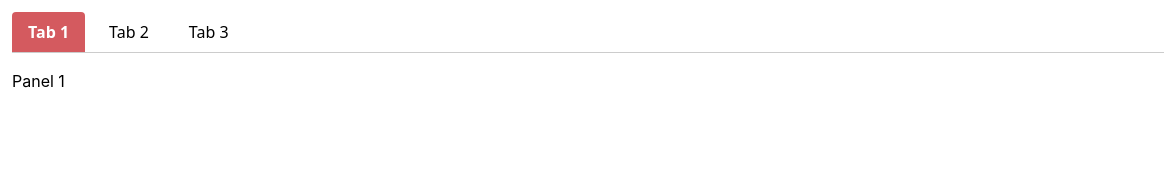
Scenario: Tabs 组件 › 应该在多次点击时正确切换
The image size is (1164, 172).
Click the tab "Tab 2" at (129, 32), box top-left (93, 12), bottom-right (165, 52)
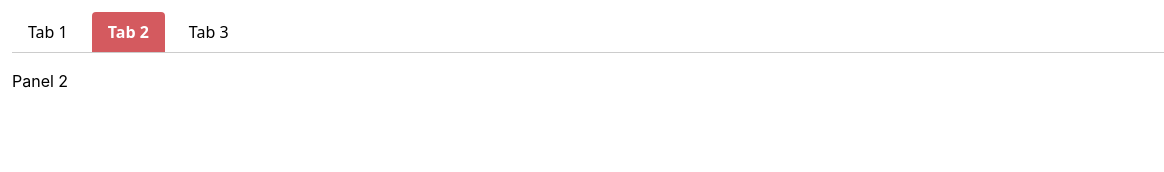
Expected: the text "Panel 2" is shown, top-left (12, 71), bottom-right (68, 91)
Click the tab "Tab 3" at (209, 32), box top-left (173, 12), bottom-right (245, 52)
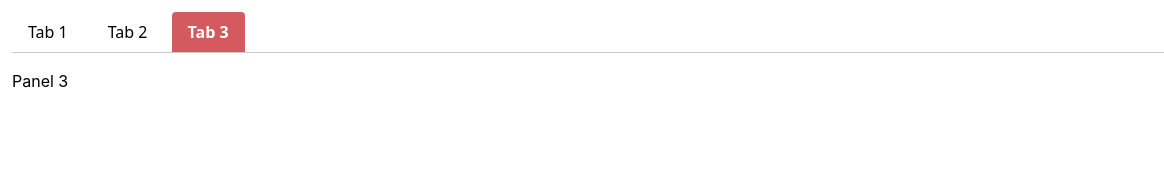
Expected: the text "Panel 3" is shown, top-left (12, 71), bottom-right (68, 91)
Click the tab "Tab 2" at (128, 32), box top-left (92, 12), bottom-right (164, 52)
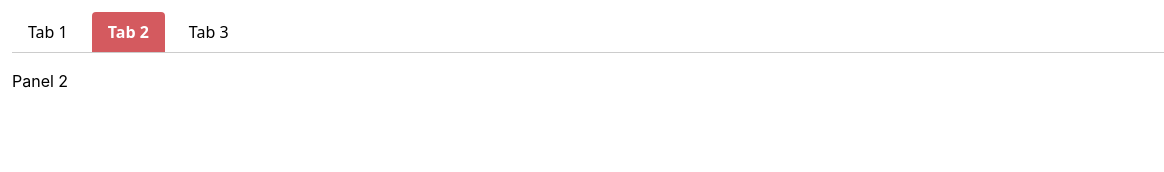
Expected: the text "Panel 2" is shown, top-left (12, 71), bottom-right (68, 91)
